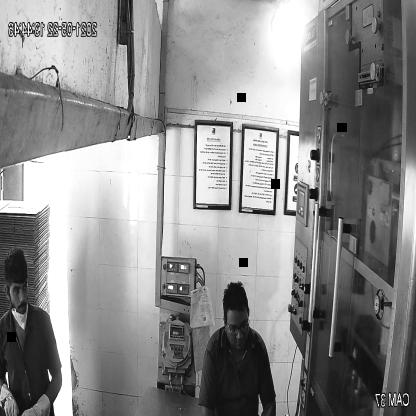goggles: (224, 313, 251, 338)
no_goggles: (6, 276, 30, 299)
